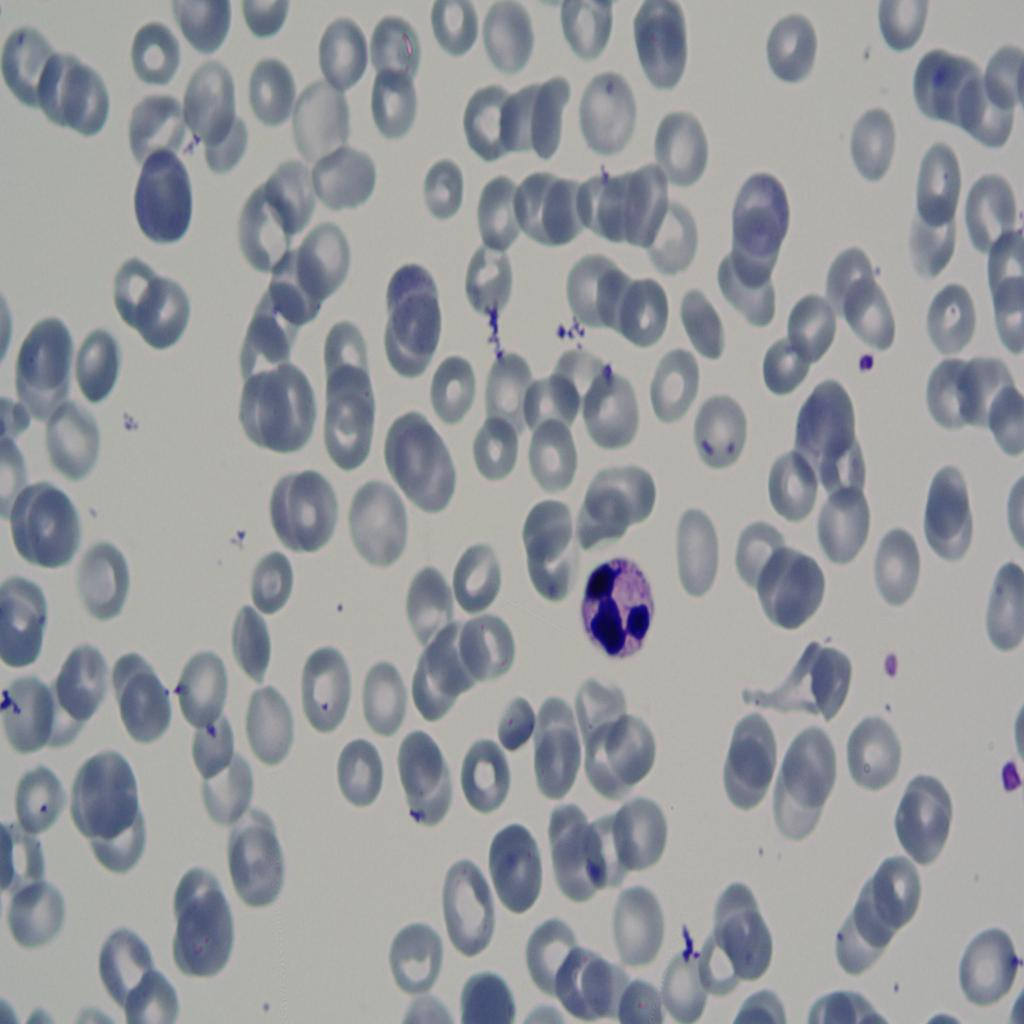Neutrofil: (576, 545, 658, 668)
Platelet: (982, 755, 1024, 805), (877, 643, 903, 685), (857, 346, 877, 385)
